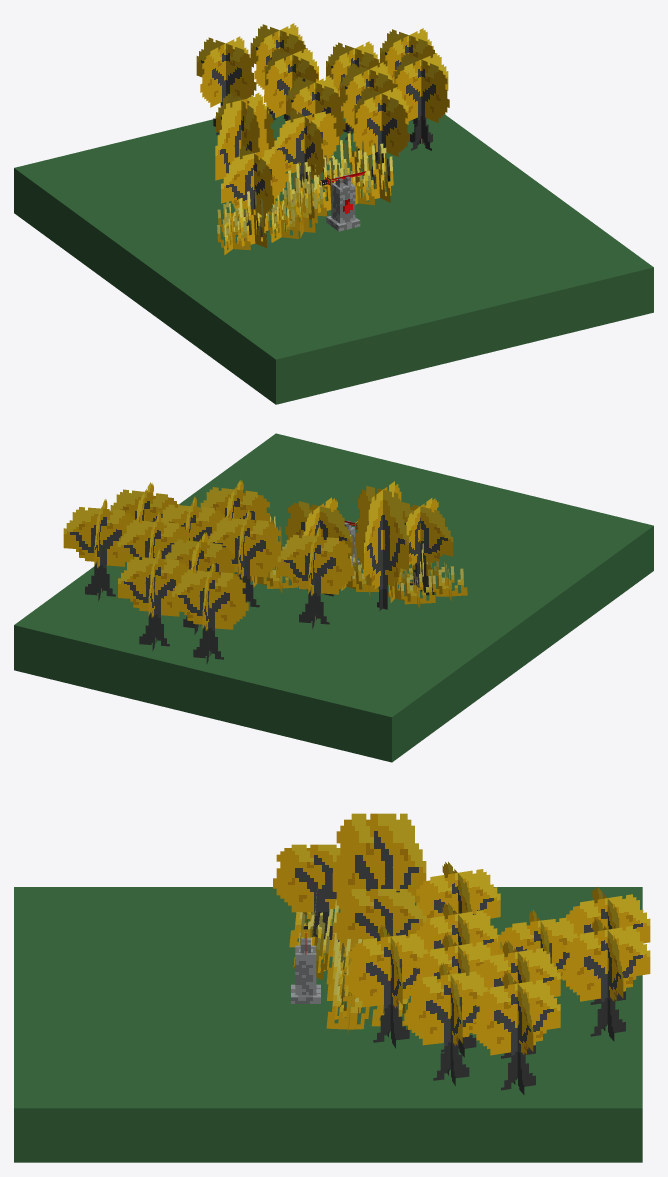
Rendered from MainMenu.gltf.
The picture shows the model from 3 angles, top to bottom: view 1: azimuth 30°, elevation 25°; view 2: azimuth 150°, elevation 25°; view 3: azimuth 270°, elevation 25°; orthographic projection. The views are drawn at different scales.
Parts seen in each view (by area): view 1: mesh (×2), plane (×21); view 2: mesh, plane (×15); view 3: mesh (×2), plane (×16).
Part boxes in pixels (x1,y1,x2,y2): mesh (×2): [14, 111, 653, 404]; plane (×21): [196, 23, 449, 254]; mesh: [14, 433, 653, 762]; plane (×15): [63, 480, 467, 664]; mesh (×2): [14, 887, 642, 1162]; plane (×16): [273, 813, 650, 1094].
Bounding box in the file's own units: 4.38 × 1.89 × 5.34.
11 materials, 11 textured.
